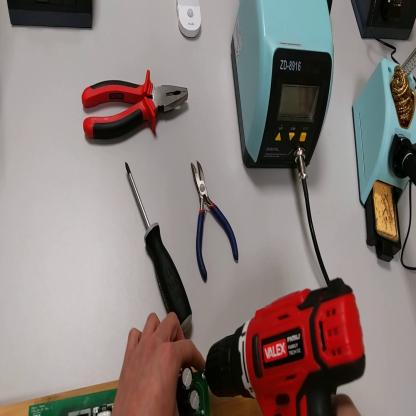electric screwdriver: (208, 277, 365, 413)
hand: (115, 310, 208, 414), (332, 390, 363, 415)
high voltage board: (30, 370, 212, 415)
pliers: (80, 70, 191, 147), (193, 153, 242, 283)
screwdriver-: (126, 165, 195, 337)
socket: (352, 3, 416, 41), (327, 2, 334, 16)
welder base: (357, 48, 416, 268)
welder probe tip: (403, 154, 415, 186)
welder station: (231, 4, 336, 171)
working area: (2, 369, 269, 416)
